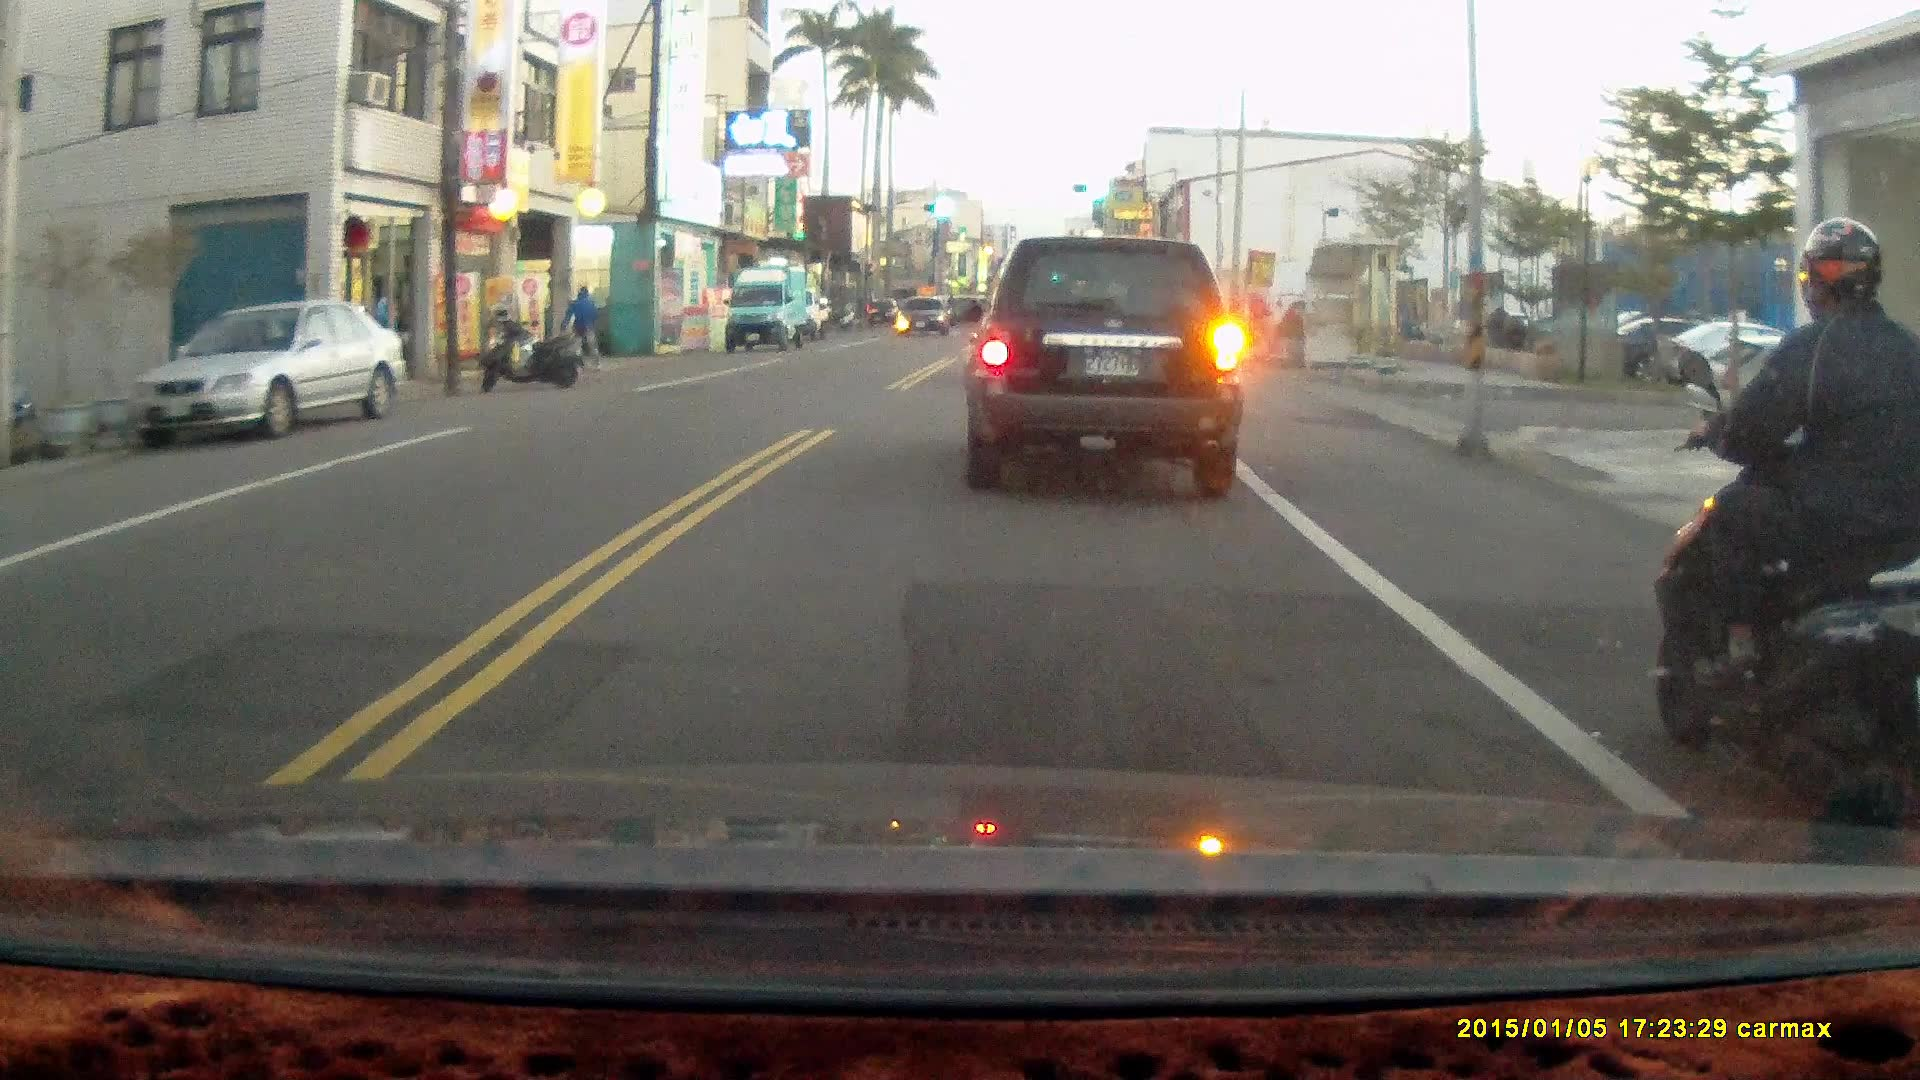pedestrian: (565, 281, 604, 373)
rider: (1650, 216, 1920, 873)
vehicle: (968, 231, 1248, 504), (132, 297, 411, 440), (1703, 338, 1908, 428), (724, 261, 811, 351), (897, 297, 953, 337)
